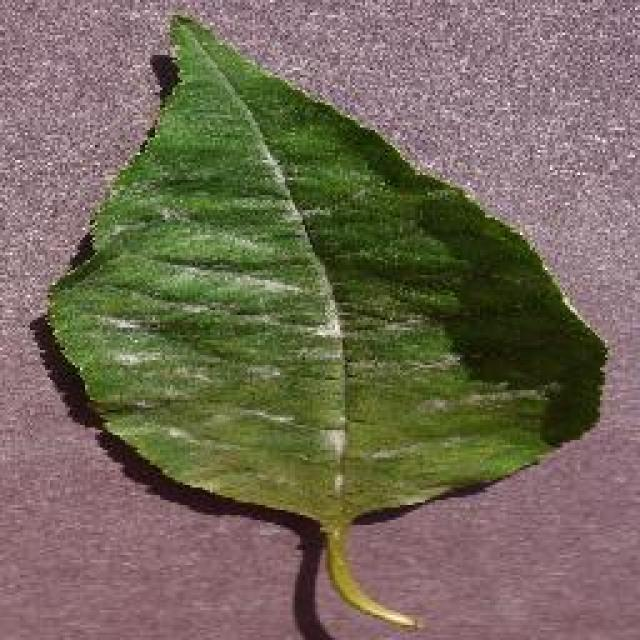Cherry___Powdery_mildew: (35, 2, 615, 640)
